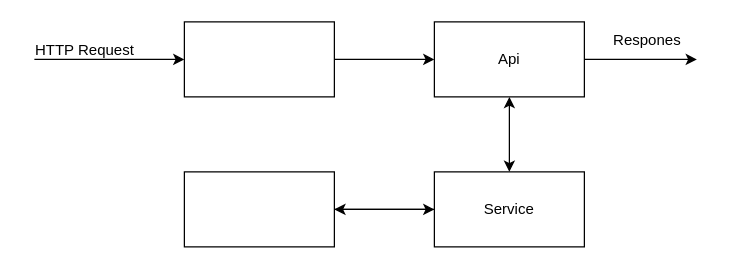
Some shapes in this 729 by 269 pixel diagram are drawn without their labels. The shapes that lost their labels are listed below. From the top down, each one's centre as x and y in pixels, then its label:
At point 258,59: "Router".
At point 258,209: "Database".
